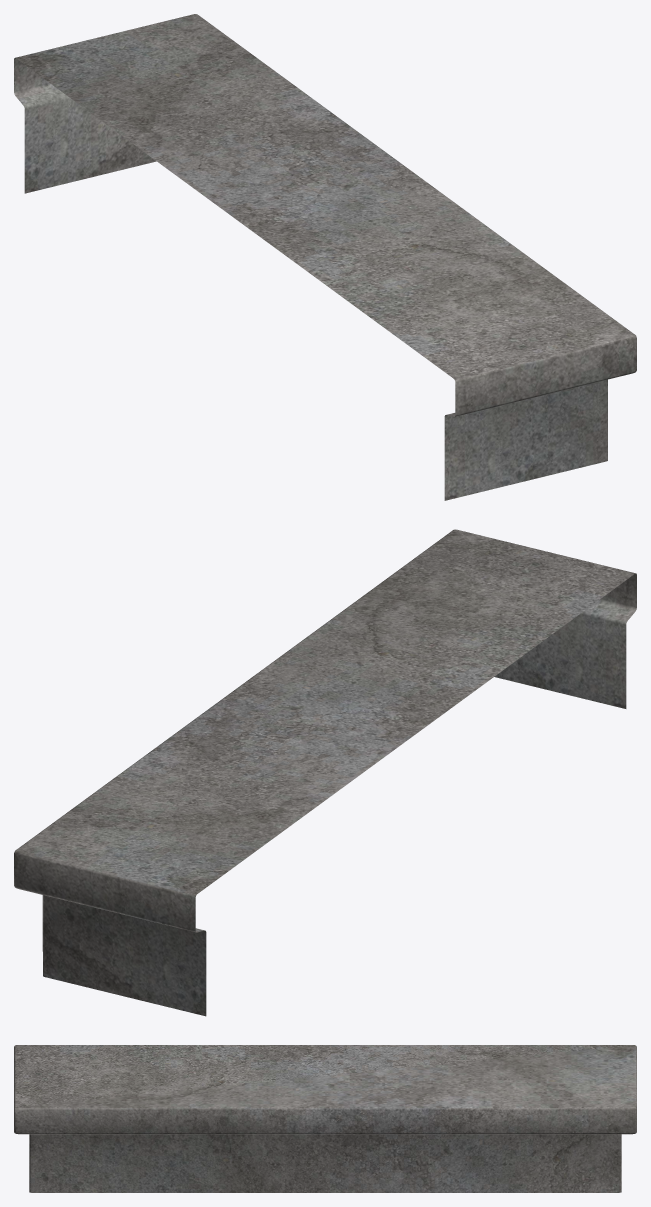
Rendered from SM_Floor_8.FBX.
3 views of the same model, one above another, from view 1: azimuth 30°, elevation 25°; view 2: azimuth 150°, elevation 25°; view 3: azimuth 270°, elevation 25° (orthographic). The views are drawn at different scales.
Visible parts, largest first — view 1: SM_Floor_8; view 2: SM_Floor_8; view 3: SM_Floor_8.
Part boxes in pixels (box(x1,y1,x2,y2)): SM_Floor_8: box(14, 14, 636, 500); SM_Floor_8: box(14, 529, 636, 1016); SM_Floor_8: box(14, 1045, 636, 1192).
Bounding box in the file's own units: 58.11 × 39.17 × 243.
Materials: 1 (1 with a texture image).
